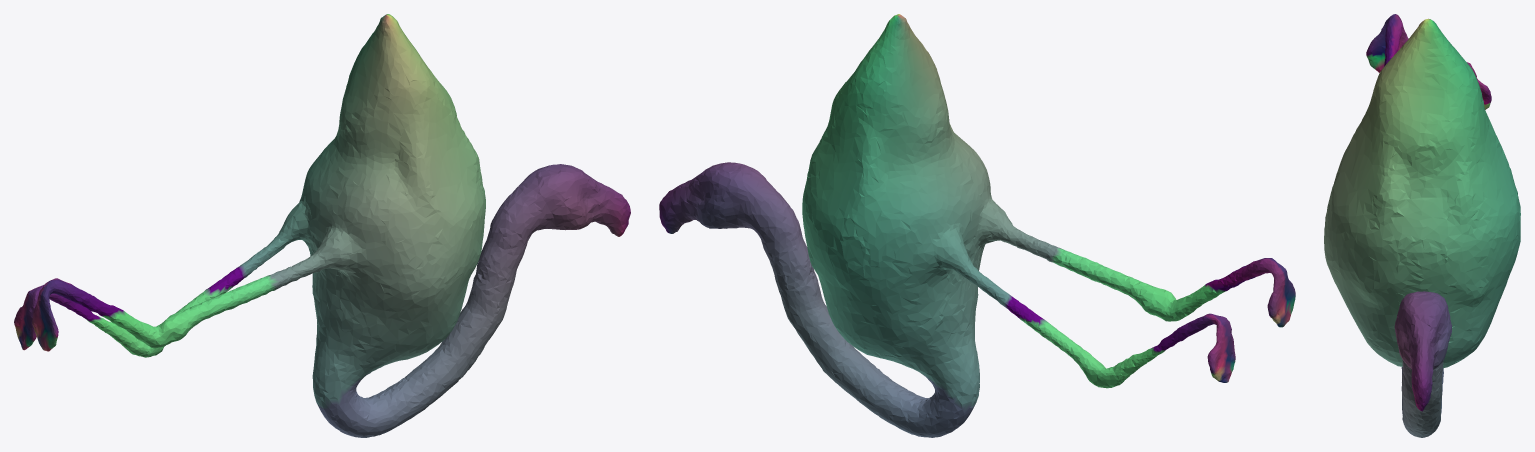
Rendered from flamingo-1.off.obj.
3 views of the same model, side by side, from view 1: azimuth 30°, elevation 25°; view 2: azimuth 150°, elevation 25°; view 3: azimuth 270°, elevation 25° (orthographic).
Bounding box in the file's own units: 1.57 × 1.02 × 0.4358.
